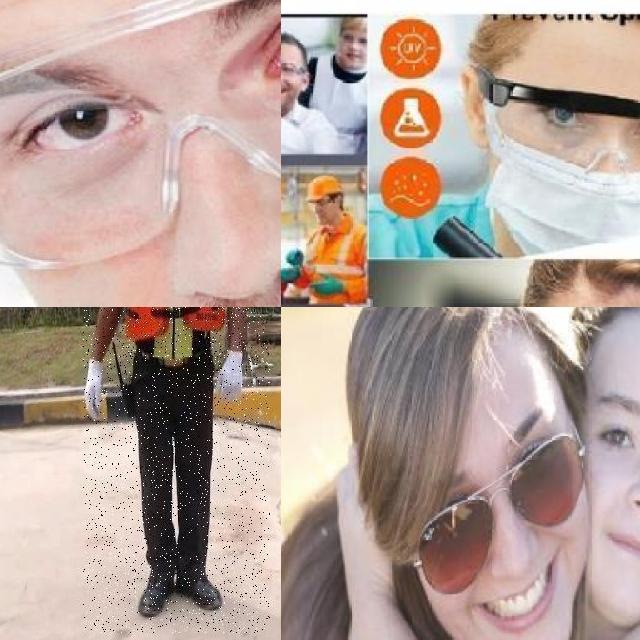boots: (174, 564, 225, 616), (138, 565, 177, 622)
face_mask: (494, 82, 640, 263)
face_nomask: (15, 0, 281, 307), (413, 432, 581, 635), (587, 403, 640, 580), (342, 34, 367, 65), (281, 60, 297, 100), (308, 200, 330, 222)
glasses: (0, 0, 281, 277), (401, 419, 589, 584), (472, 62, 640, 202), (281, 60, 302, 80)
hand_glove: (310, 271, 342, 298), (282, 248, 305, 267), (281, 265, 302, 285)
hand_noglove: (326, 449, 404, 583)
head_helmet: (305, 172, 342, 203)
head_nohelmet: (357, 307, 553, 407), (571, 307, 640, 378), (281, 29, 309, 60)
person: (83, 307, 270, 633), (296, 178, 368, 300), (281, 167, 298, 299)
vest: (126, 307, 225, 362)
